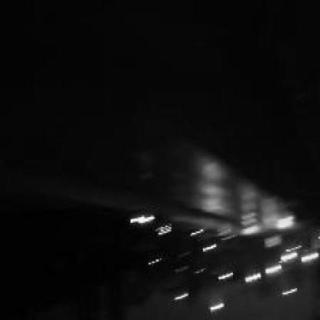other: (243, 269, 263, 287)
